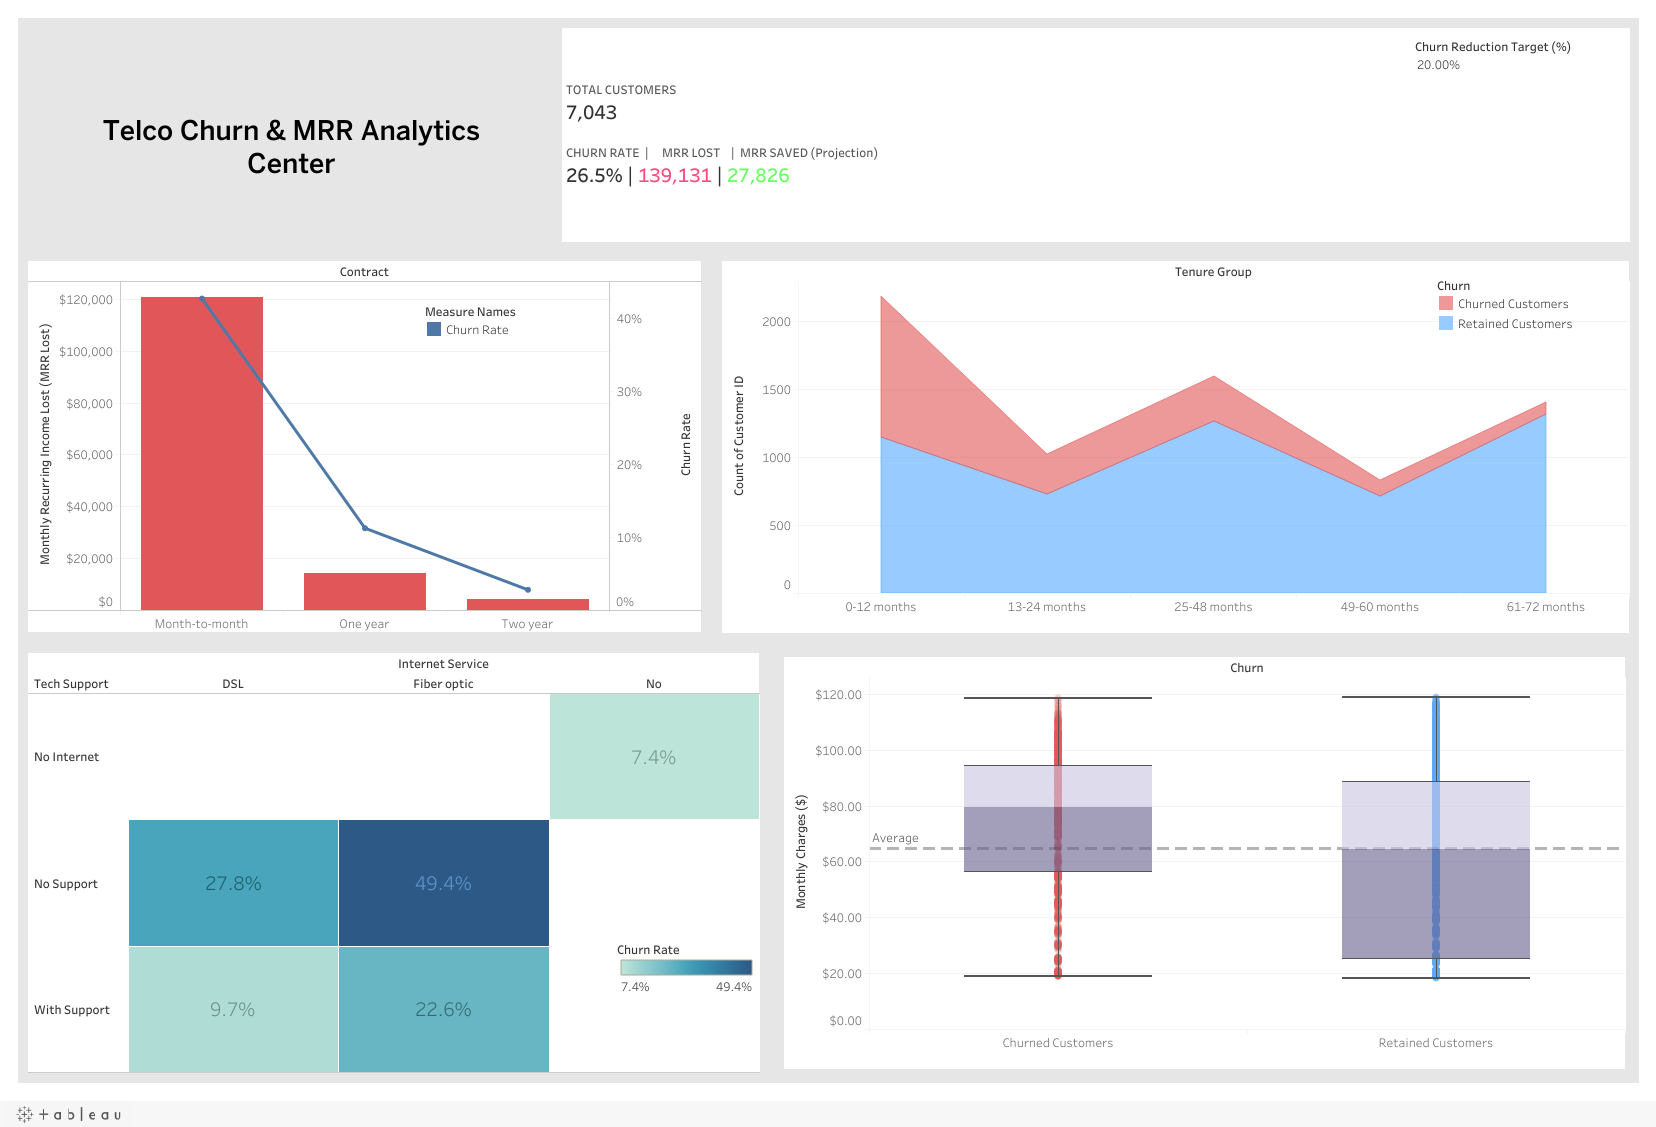

The dashboard page shown, as its layout file describes it:
{"tool":"tableau","page":{"name":"Telco Churn & MRR Analytics Center","canvas":[1657,1101],"ordinal":0},"visuals":[{"type":"worksheet","title":"Global Financial Impact","mark":"Automatic","box":[552,18,1087,233.3]},{"type":"parameter","param":"[Parameters].[Parameter 1]","box":[1415,35.7,214,144.3]},{"type":"text","box":[56,85.2,471,122.3]},{"type":"worksheet","title":"Revenue Loss by Contract","mark":"Automatic","rows":["Calculation_1115766824280555520","Calculation_1115766824280793089"],"cols":["Contract"],"box":[18,251.3,715.6,392.1]},{"type":"worksheet","title":"Churn by Tenure","mark":"Area","rows":["customerID"],"cols":["Tenure_Group"],"box":[733.6,251.3,905.3,392.1]},{"type":"legend","title":"Churn by Tenure","param":"[federated.0ynlqy515h1vng19azws615nfaxq].[none:Churn:nk]","box":[1436,273.5,189,88]},{"type":"legend","title":"Revenue Loss by Contract","param":"[federated.0ynlqy515h1vng19azws615nfaxq].[:Measure Names]","box":[424,299.6,188,61.9]},{"type":"worksheet","title":"Fiber Optic Paradox","mark":"Square","rows":["TechSupport"],"cols":["InternetService"],"box":[18,643.4,751.7,439.6]},{"type":"worksheet","title":"Distribution of Monthly Charges","mark":"Circle","rows":["MonthlyCharges"],"cols":["Churn"],"box":[779.7,653.4,849.3,419.6]},{"type":"legend","title":"Fiber Optic Paradox","param":"[federated.0ynlqy515h1vng19azws615nfaxq].[usr:Calculation_1115766824280793089:qk","box":[617,936.1,140,121]}]}

Visuals, with their boxes on the page's 1657x1101 design canvas (x1, y1, x2, y2). These are canvas units, not pixel positions in the 1656x1127 screenshot, which may show the page scaled, cropped or inside an application window:
"Global Financial Impact" worksheet: bbox(552, 18, 1639, 251)
parameter: bbox(1415, 36, 1629, 180)
text: bbox(56, 85, 527, 208)
"Revenue Loss by Contract" worksheet: bbox(18, 251, 734, 643)
"Churn by Tenure" worksheet (Area marks): bbox(734, 251, 1639, 643)
"Churn by Tenure" legend: bbox(1436, 274, 1625, 362)
"Revenue Loss by Contract" legend: bbox(424, 300, 612, 362)
"Fiber Optic Paradox" worksheet (Square marks): bbox(18, 643, 770, 1083)
"Distribution of Monthly Charges" worksheet (Circle marks): bbox(780, 653, 1629, 1073)
"Fiber Optic Paradox" legend: bbox(617, 936, 757, 1057)
